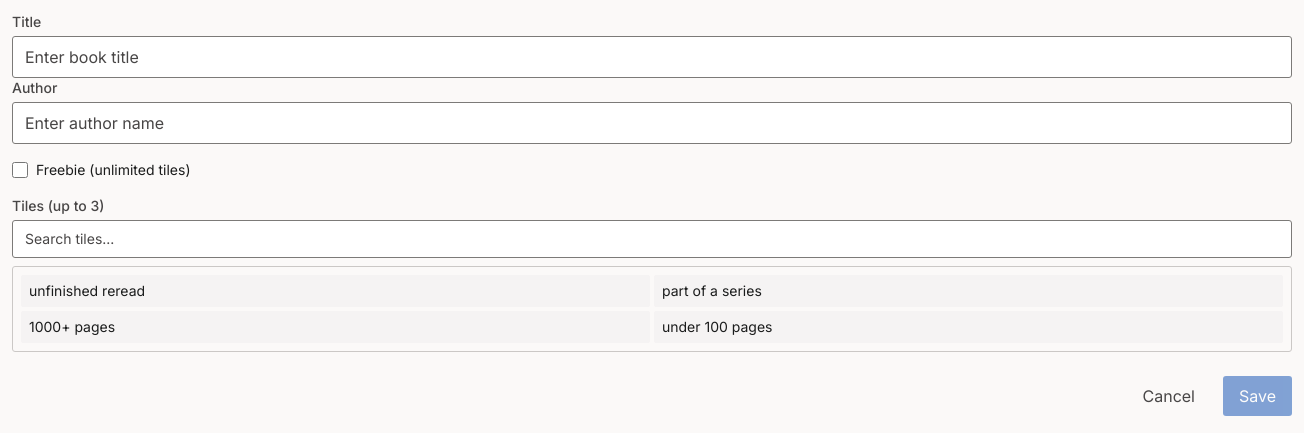
Scenario: BookForm › tiles and freebie › blocks a 4th tile once three are selected (non-freebie limit)
Step 1. Click the button "unfinished reread" → (87, 290), box [21,275,650,307]
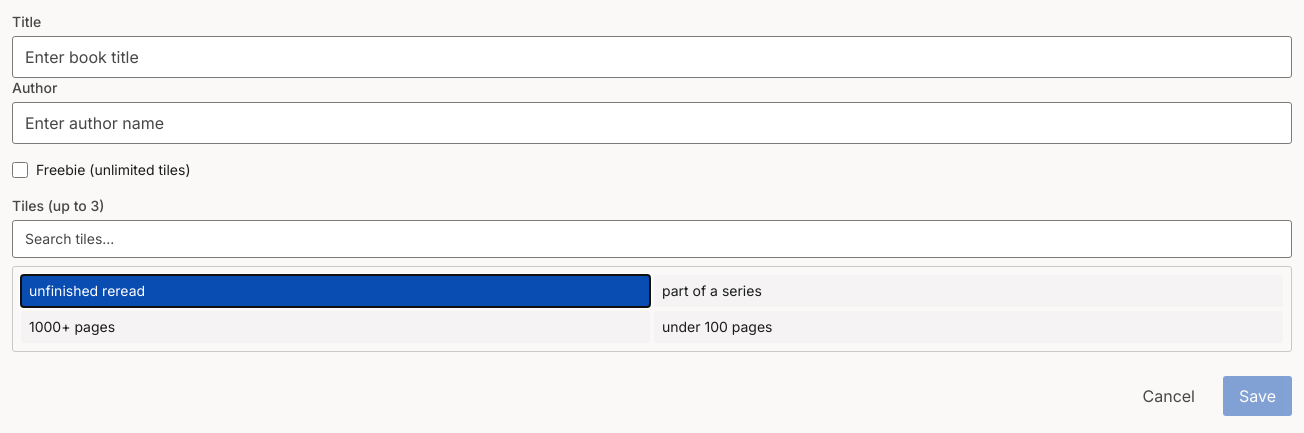
Step 2. Click the button "part of a series" → (712, 290), box [654,275,1283,307]
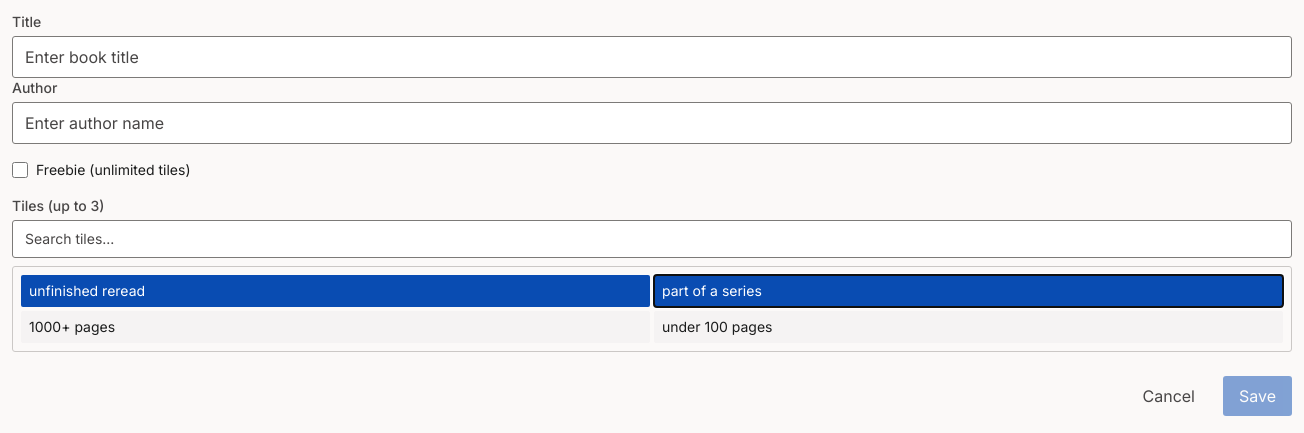
Step 3. Click the button "1000+ pages" → (72, 326), box [21,311,650,343]
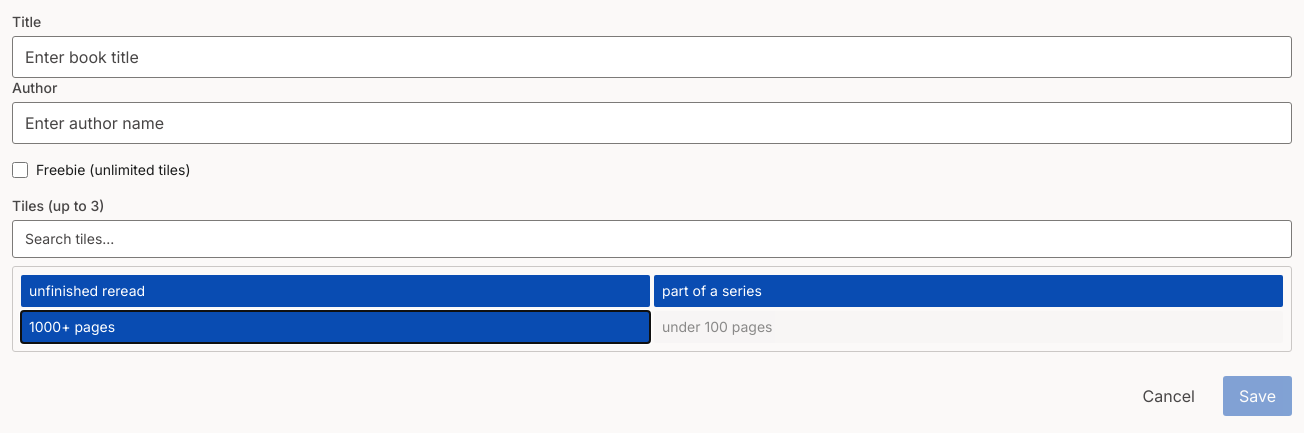
Expected: the button "unfinished reread" is enabled, [21,275,650,307]
Expected: the button "under 100 pages" is disabled, [654,311,1283,343]
